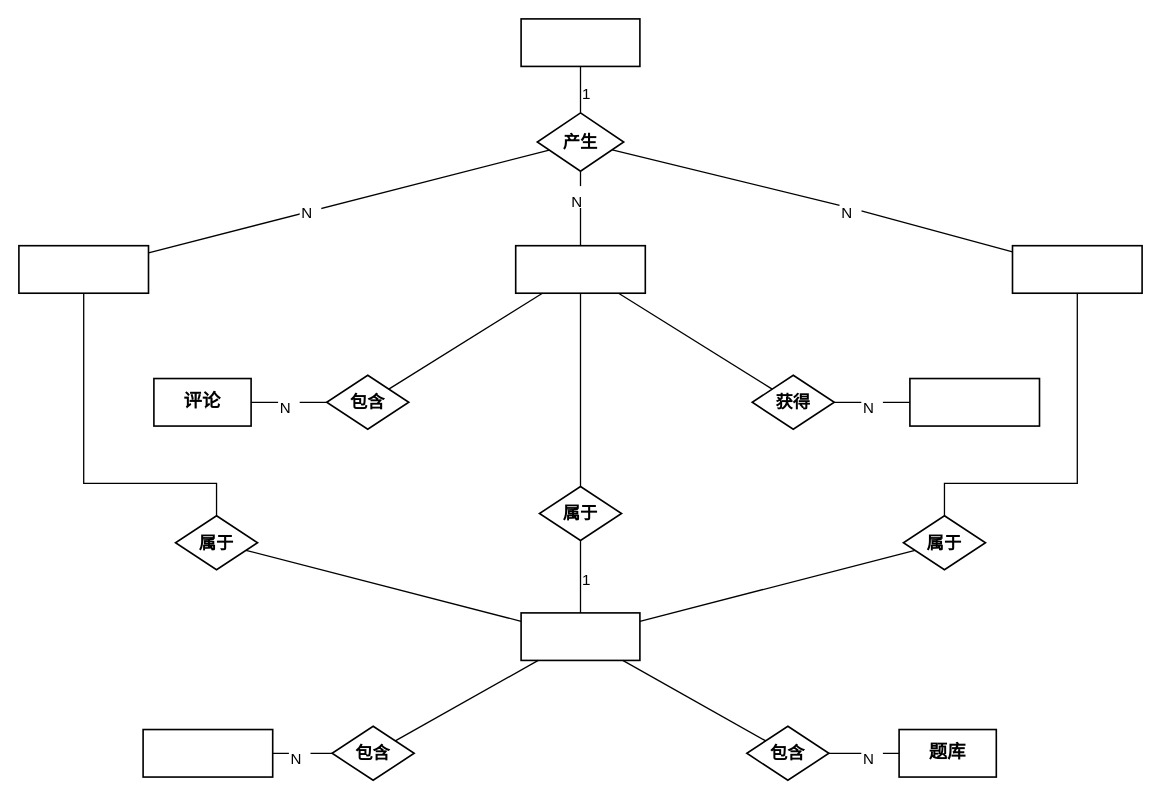
Image size: 1162x800. Some labels were removed from this diagram. The box of each missing label's shape, as (x1, y1, x2, y2) in pixels:
专业: (520, 612, 640, 661)
兴趣记录: (18, 244, 149, 294)
学习资料: (142, 728, 273, 777)
收藏记录: (1011, 244, 1142, 294)
点赞记录: (909, 377, 1040, 426)
用户: (520, 18, 640, 67)
论坛帖子: (514, 244, 646, 294)
